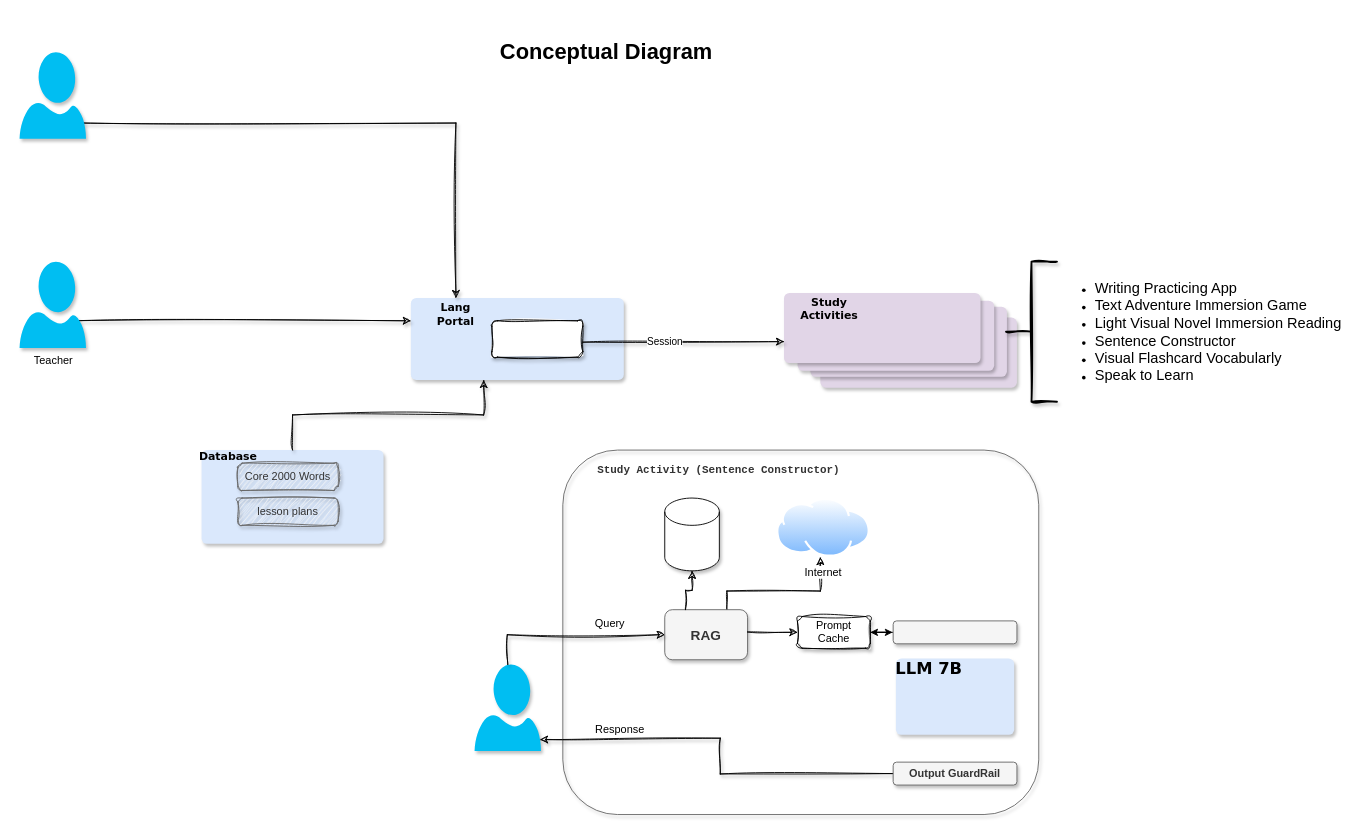
Image size: 1360x837. Some labels were removed from this diagram. The shapes that lost their labels are listed below. From the top down, each one's centre as x and y in pixels, then its label:
point (53, 96): Student
point (537, 340): Word Group
point (692, 535): Vector Database
point (955, 633): Input GuardRail
point (508, 708): User
